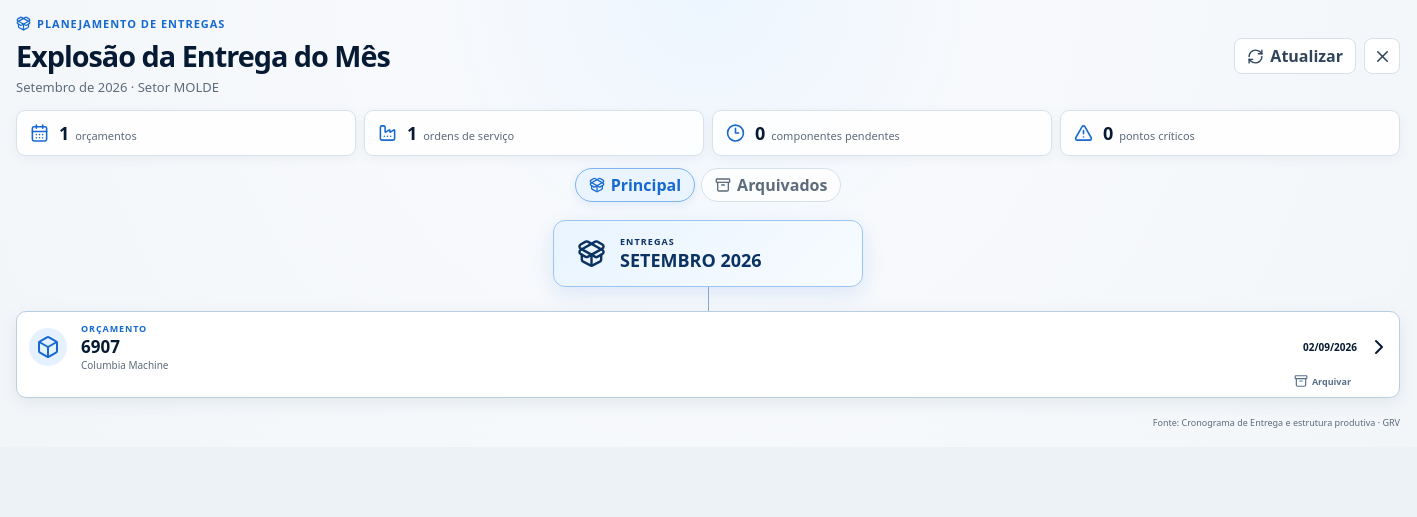
Scenario: DeliveryExplosion › starts collapsed and returns to the initial state after a second click
This screenshot has width=1417, height=517.
Expected: the button "OS 9644" is not shown
Click the button "ORÇAMENTO 6907 Columbia Machine 02/09/2026": (48, 347) [16,311,1400,398]
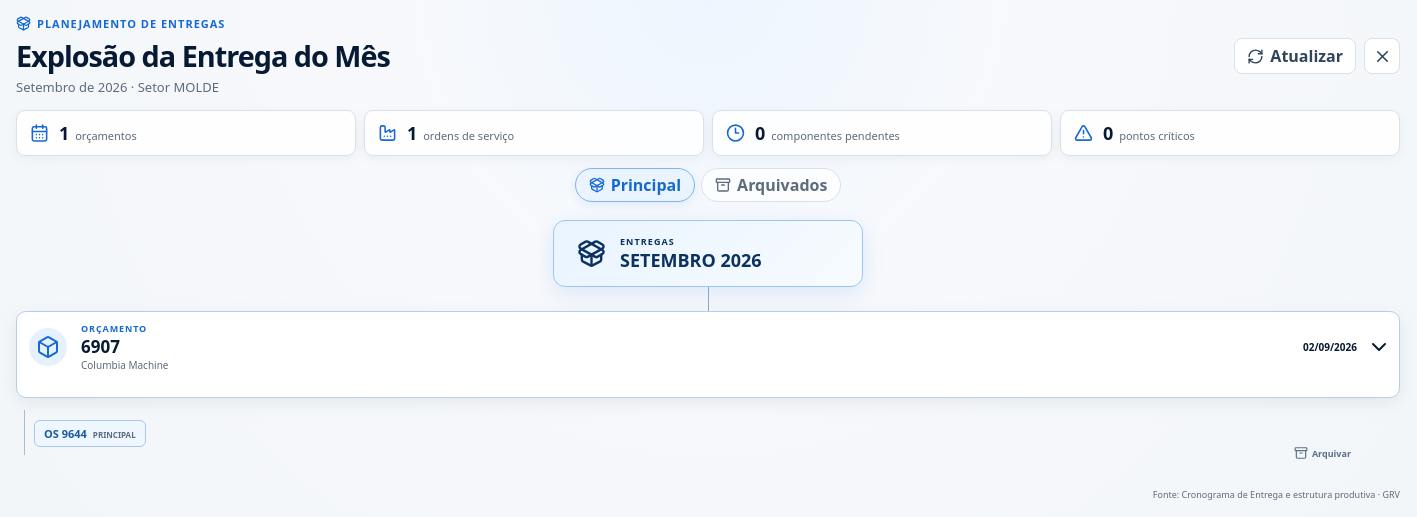
Expected: the button "ORÇAMENTO 6907 Columbia Machine 02/09/2026" is expanded
Expected: the button "OS 9644Principal" is shown, [34,420,146,447]
Click the button "ORÇAMENTO 6907 Columbia Machine 02/09/2026": (48, 347) [16,311,1400,398]
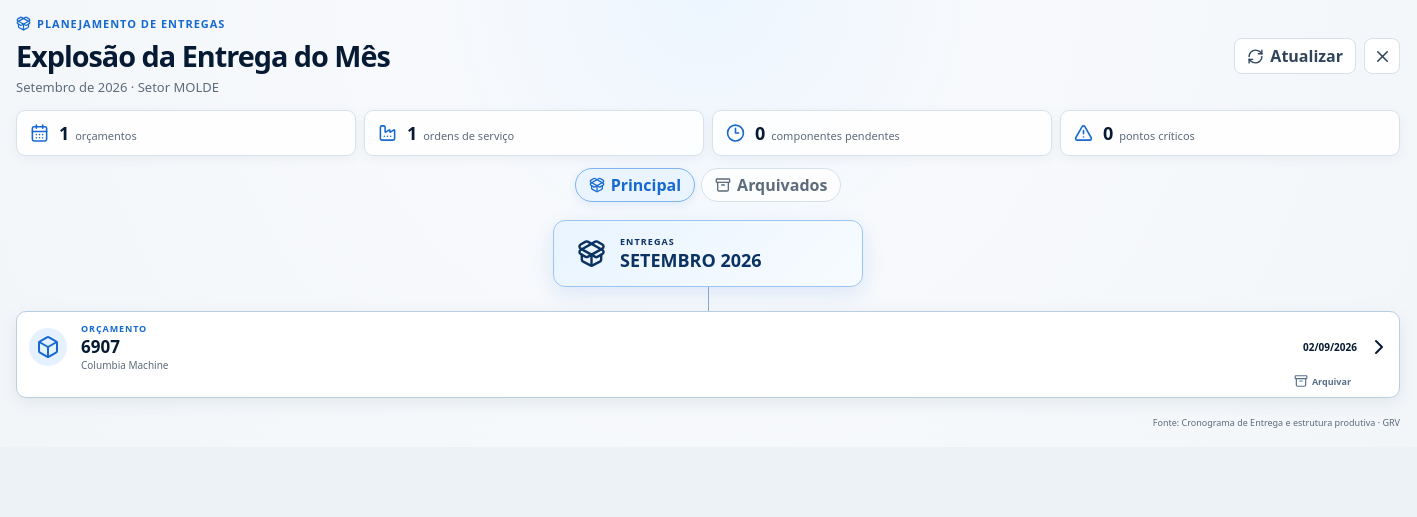
Expected: the button "ORÇAMENTO 6907 Columbia Machine 02/09/2026" is collapsed, [16,311,1400,398]
Expected: the button "OS 9644" is gone
